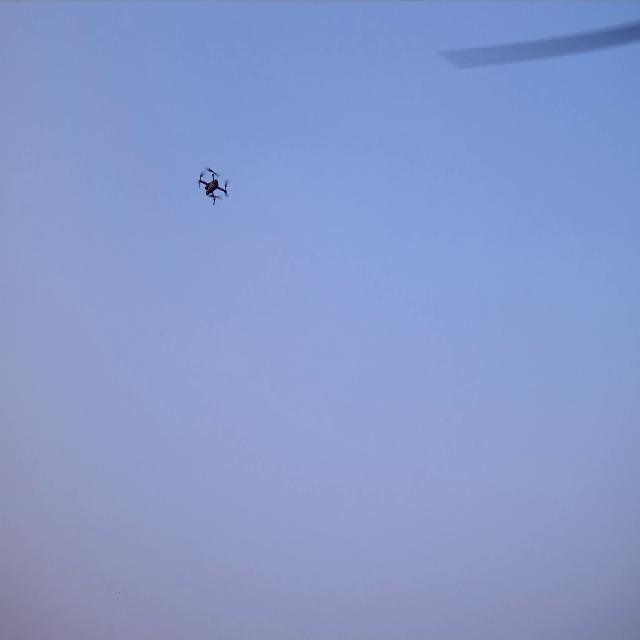UAV: (199, 169, 226, 205)
